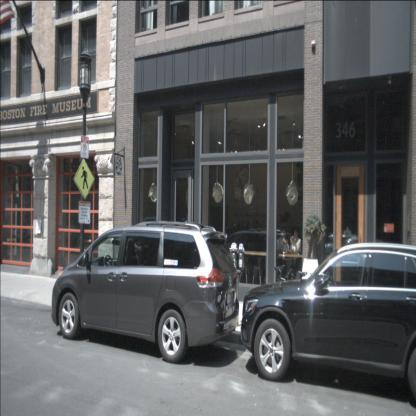human-pedestrian-adult: (276, 228, 290, 285), (290, 228, 302, 284)
vehicle-bicycle: (270, 264, 312, 310)
vehicle-car: (240, 242, 416, 408), (51, 223, 240, 364), (211, 230, 292, 292)
